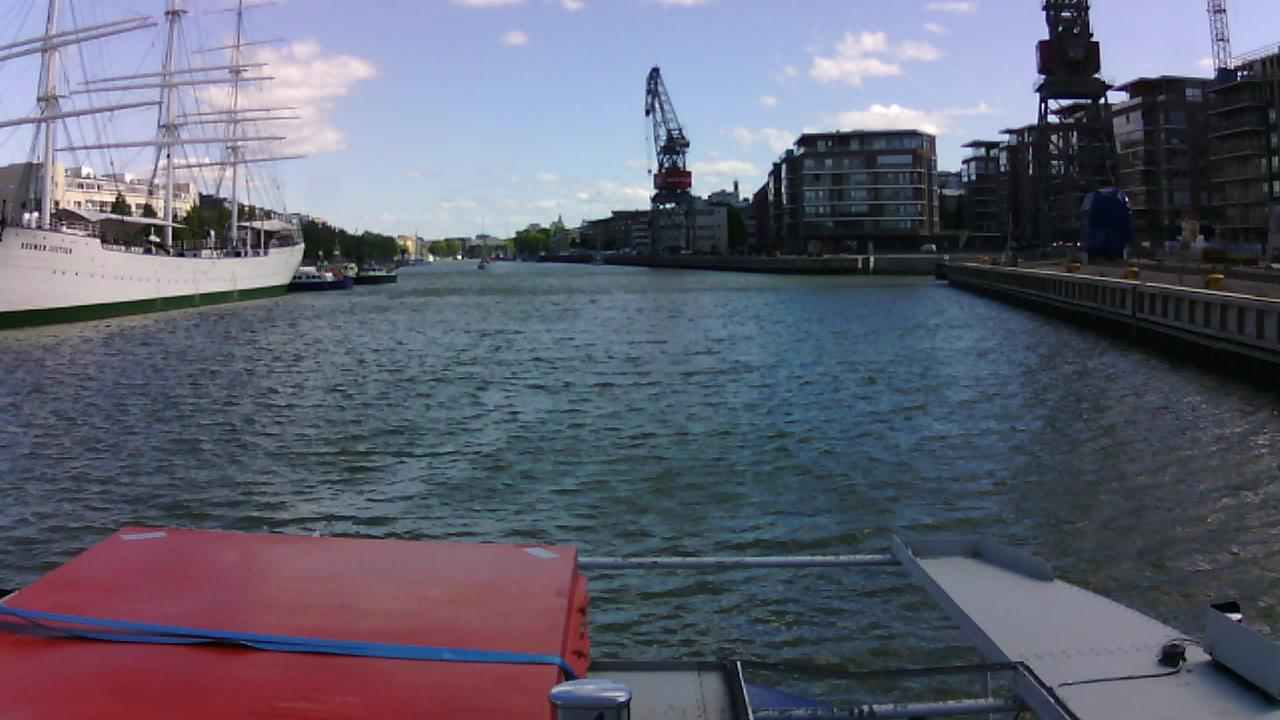Ship: (2, 2, 303, 321), (297, 269, 352, 291)
